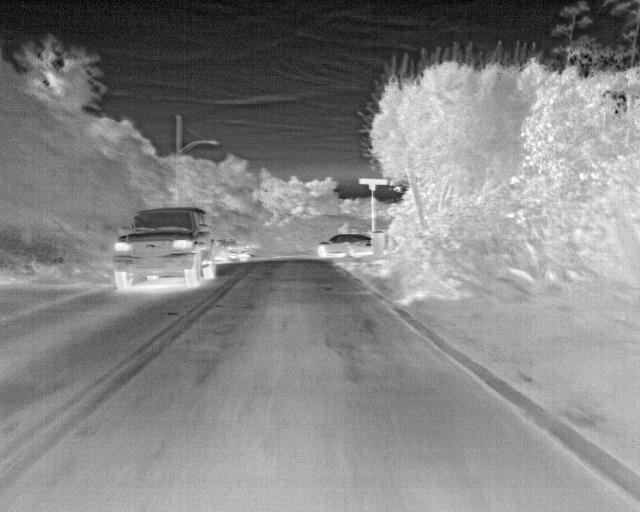car: (112, 205, 217, 293), (318, 232, 372, 259)
